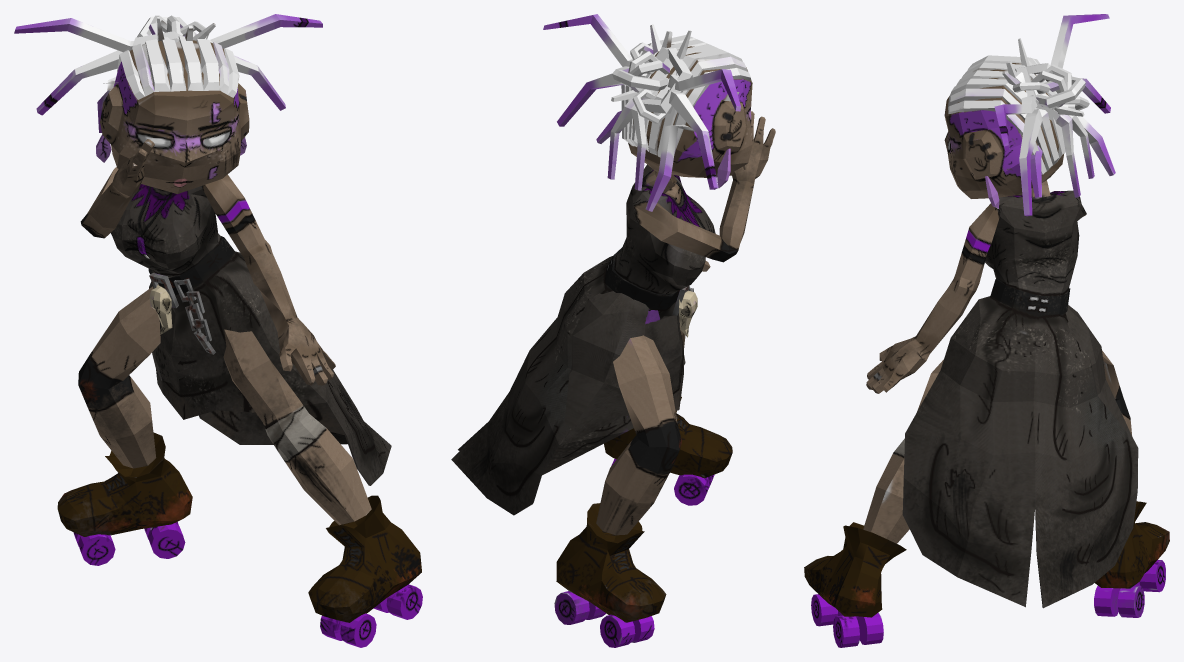
The model's file is bruja_000060.obj.
3 views of the same model, side by side, from view 1: azimuth 30°, elevation 25°; view 2: azimuth 150°, elevation 25°; view 3: azimuth 270°, elevation 25° (orthographic). The views are drawn at different scales.
Parts seen in each view (by area): view 1: Bruja_Plane.001; view 2: Bruja_Plane.001; view 3: Bruja_Plane.001.
Boxes of the visible parts, x1=… form: Bruja_Plane.001: x1=14, y1=14, x2=422, y2=647; Bruja_Plane.001: x1=451, y1=14, x2=775, y2=647; Bruja_Plane.001: x1=804, y1=14, x2=1169, y2=647.
Size of the model in its own units: 9.21 by 15.42 by 9.25.
